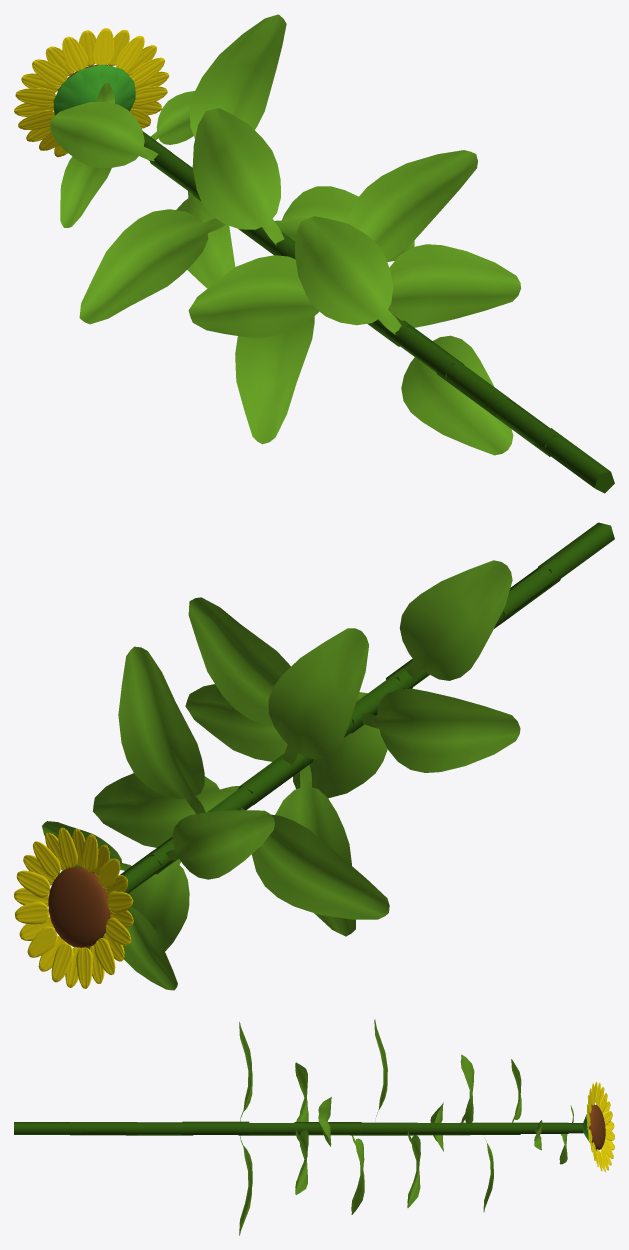
3 views of the same model, one above another, from view 1: azimuth 30°, elevation 25°; view 2: azimuth 150°, elevation 25°; view 3: azimuth 270°, elevation 25° (orthographic). The views are drawn at different scales.
Visible parts, largest first — view 1: Root; view 2: Root; view 3: Root.
Part boxes in pixels (x1,y1,x2,y2): Root: (14, 14, 614, 493); Root: (14, 522, 614, 990); Root: (14, 1019, 614, 1235).
Size of the model in its own units: 940 by 895 by 2606.
